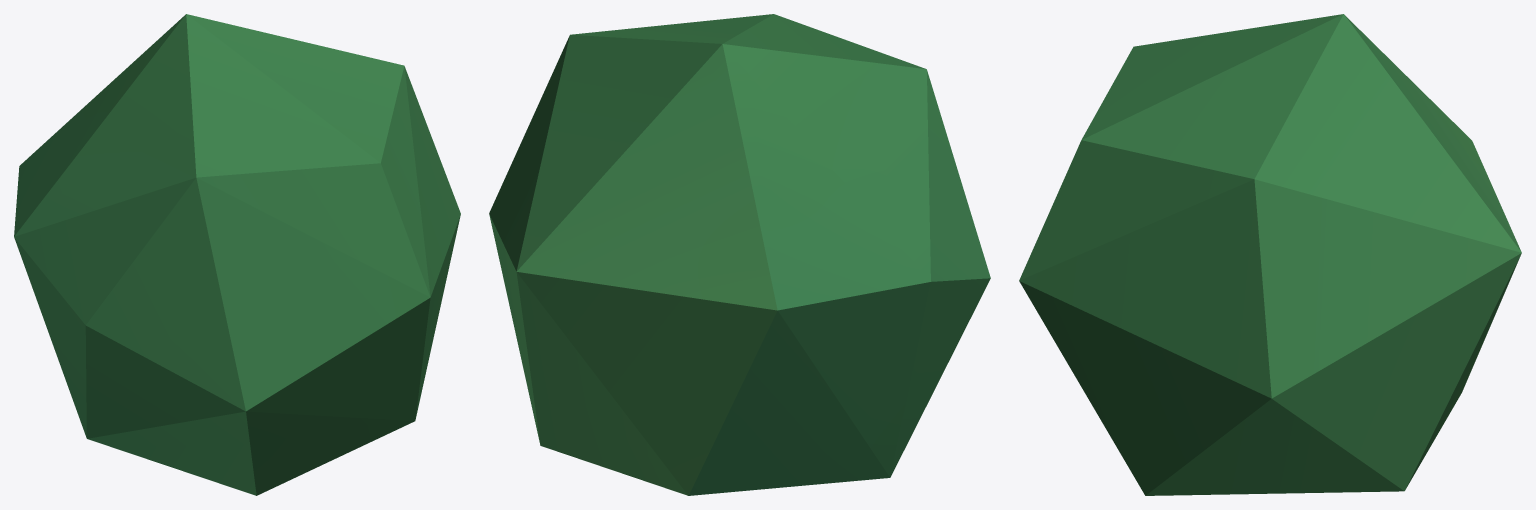
Rendered from shrub2.fbx.
The picture shows the model from 3 angles, left to right: view 1: azimuth 30°, elevation 25°; view 2: azimuth 150°, elevation 25°; view 3: azimuth 270°, elevation 25°; orthographic projection. The views are drawn at different scales.
Parts seen in each view (by area): view 1: shrub; view 2: shrub; view 3: shrub.
Part boxes in pixels (bbox=[...]): shrub: bbox=[14, 14, 460, 495]; shrub: bbox=[489, 14, 990, 495]; shrub: bbox=[1019, 14, 1521, 495].
Bounding box in the file's own units: 150 × 148 × 143.
Materials: 1 (1 with a texture image).
